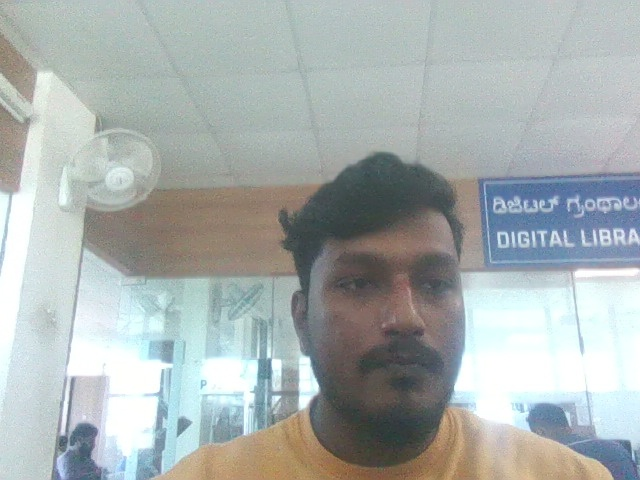real: (282, 142, 490, 437)
